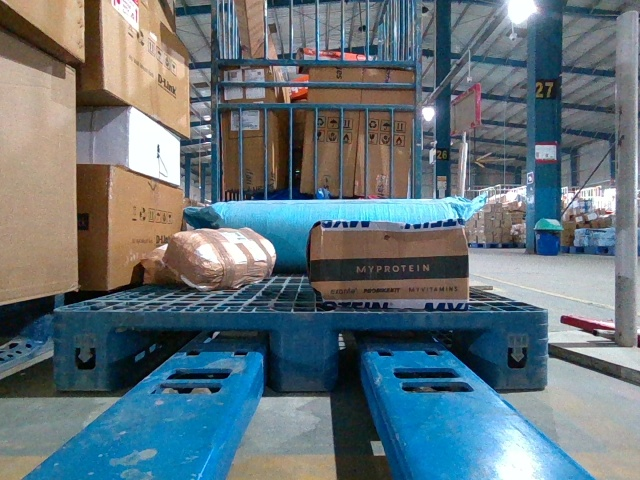block: (53, 309, 116, 395), (492, 301, 551, 390), (272, 311, 336, 390)
front: (57, 308, 550, 393)
hole pallet: (114, 324, 280, 399), (327, 324, 491, 393)
